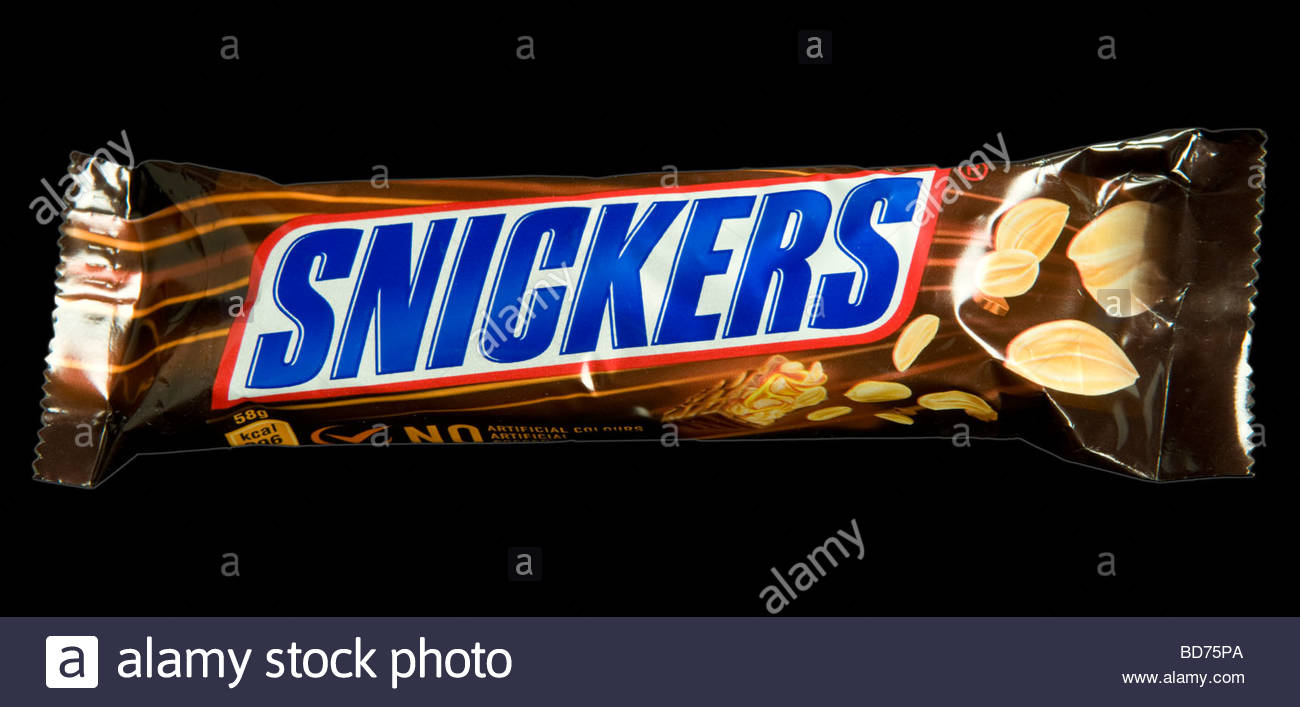snickers: (244, 174, 927, 389)
